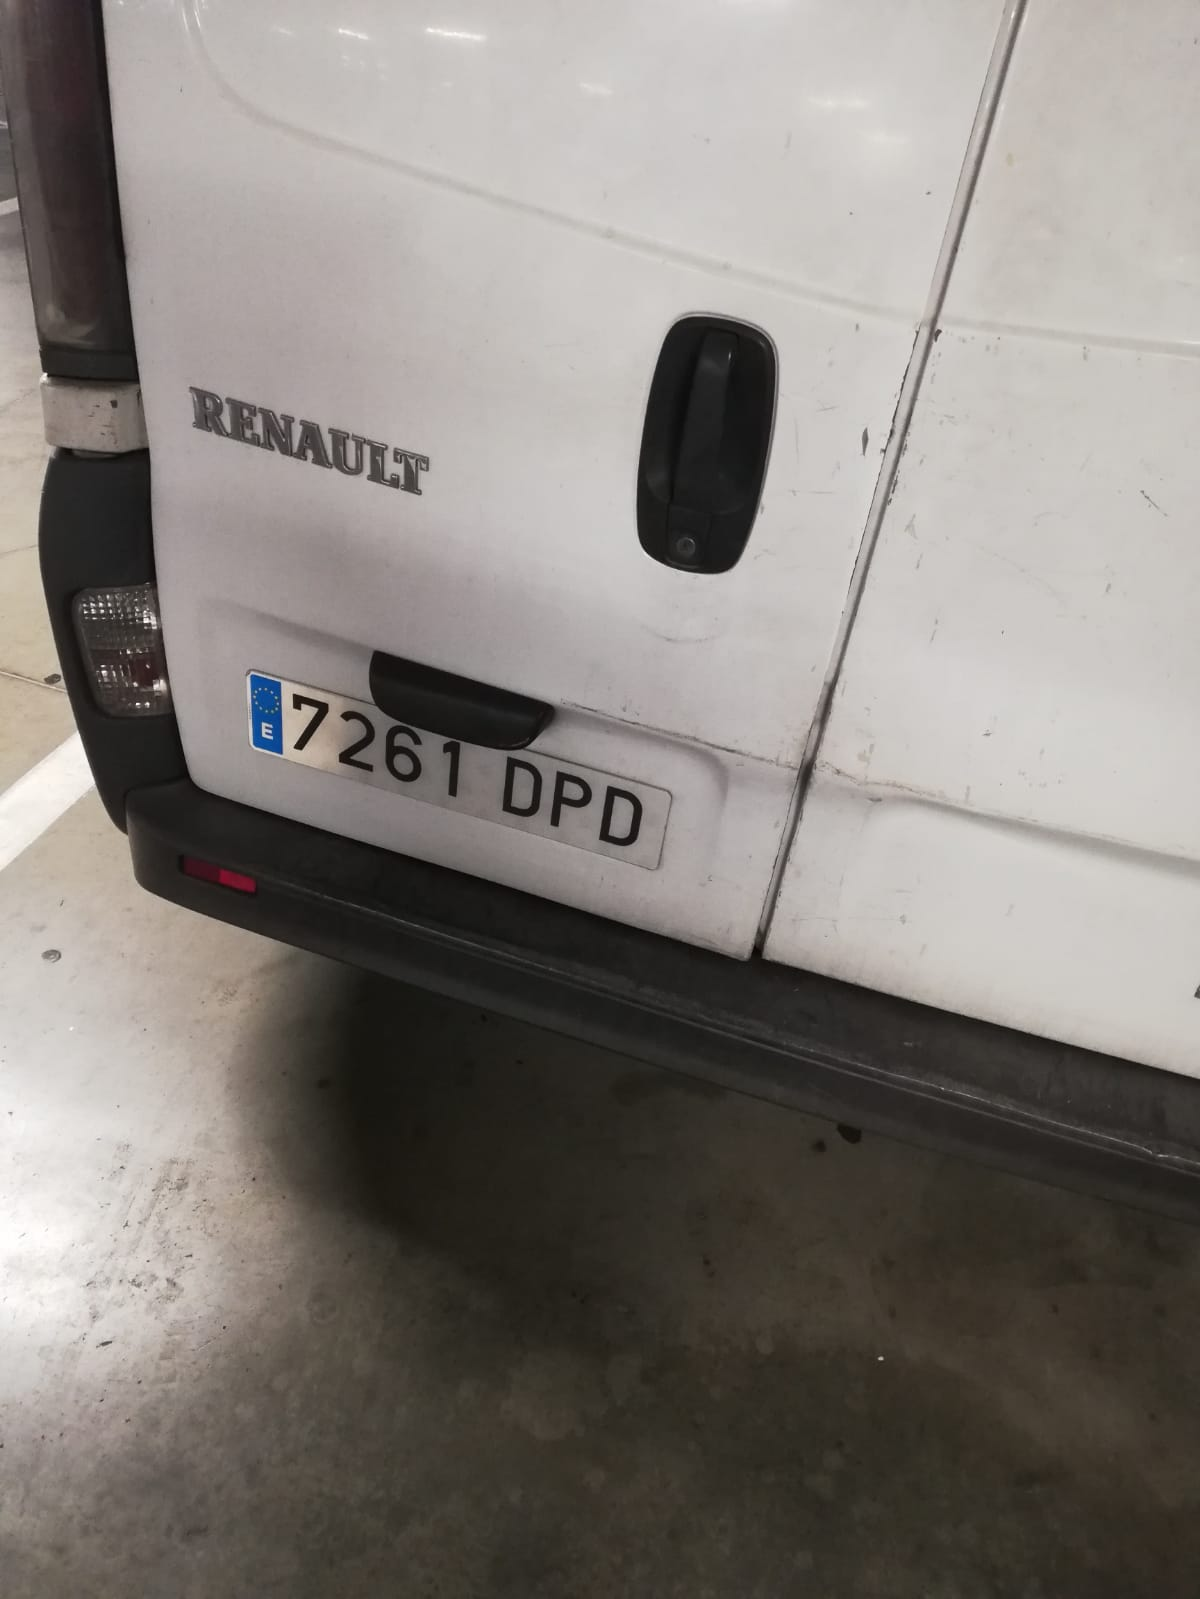Plate: (258, 673, 689, 754)
